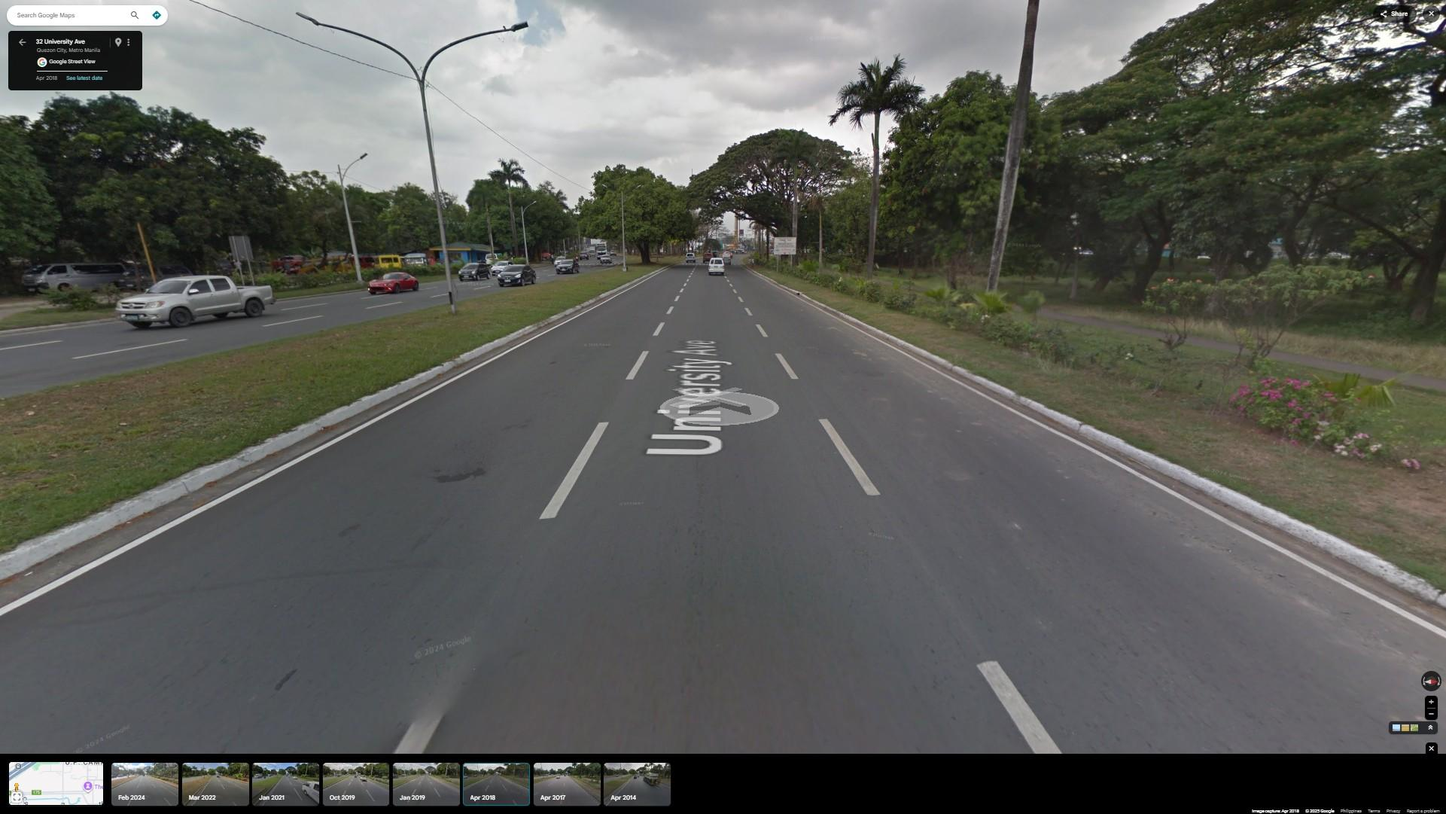pedestrian: (748, 256, 752, 268), (751, 257, 754, 269)
